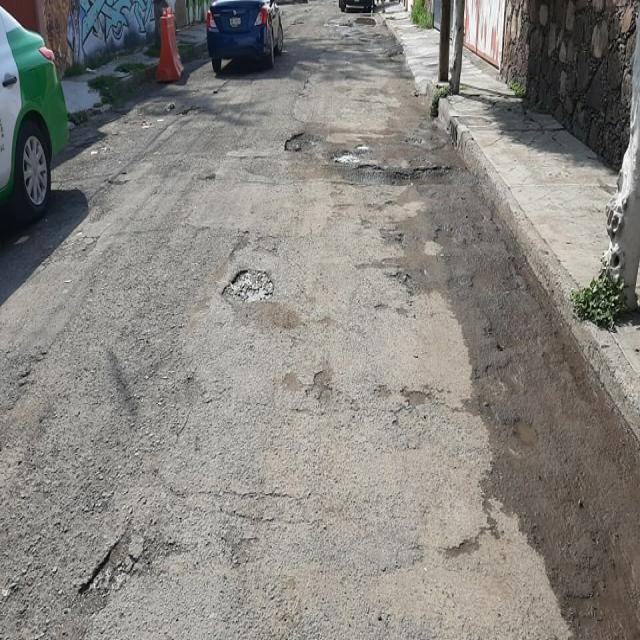Pothole: (69, 479, 351, 639), (274, 98, 455, 223), (209, 249, 310, 357)
